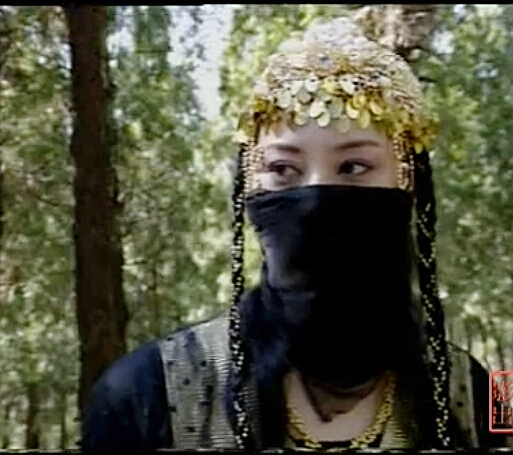face_mask: (246, 101, 397, 274)
